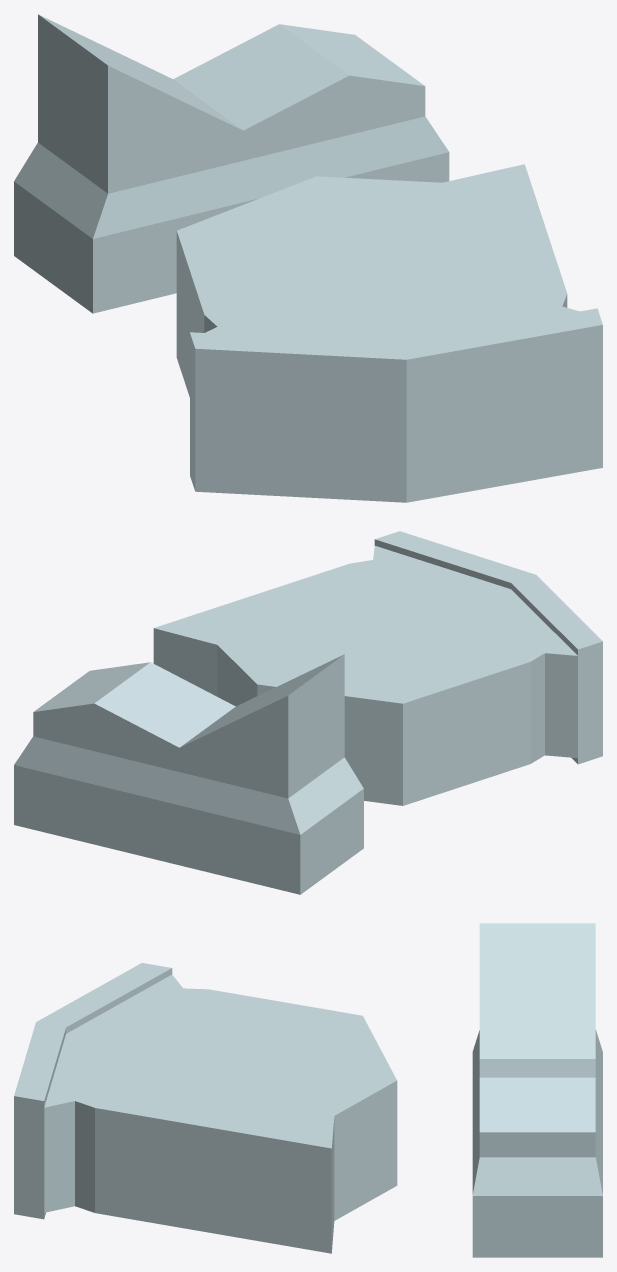
Rendered from gravestoneDebris.glb.
The picture shows the model from 3 angles, top to bottom: view 1: azimuth 30°, elevation 25°; view 2: azimuth 150°, elevation 25°; view 3: azimuth 270°, elevation 25°; orthographic projection. The views are drawn at different scales.
Visible parts, largest first — view 1: gravestoneDebris; view 2: gravestoneDebris; view 3: gravestoneDebris.
Part boxes in pixels (x1,y1,x2,y2): gravestoneDebris: [14, 14, 602, 502]; gravestoneDebris: [14, 531, 602, 894]; gravestoneDebris: [14, 923, 602, 1257].
Bounding box in the file's own units: 0.4968 × 0.2592 × 0.6751.
